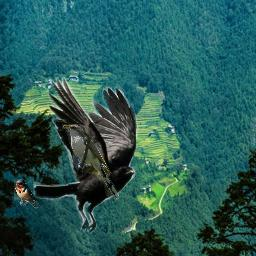Crow: (33, 77, 139, 237)
Cuckoo: (62, 124, 119, 200)
Swallow: (14, 179, 39, 211)
